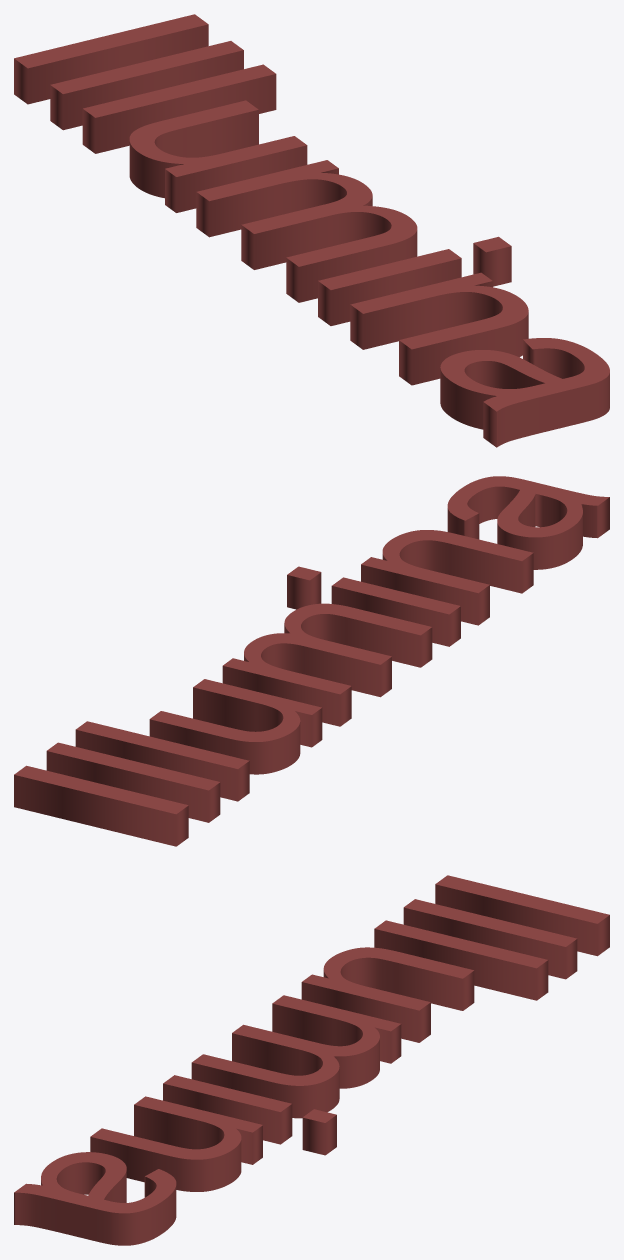
File: Illumina_Text.glb
The picture shows the model from 3 angles, top to bottom: view 1: azimuth 30°, elevation 25°; view 2: azimuth 150°, elevation 25°; view 3: azimuth 330°, elevation 25°; orthographic projection. The views are drawn at different scales.
Parts seen in each view (by area): view 1: Text; view 2: Text; view 3: Text.
Part boxes in pixels (x1,y1,x2,y2): Text: (14, 14, 609, 447); Text: (14, 476, 609, 846); Text: (14, 875, 609, 1245).
Size of the model in its own units: 1.6 by 0.3 by 7.28.
